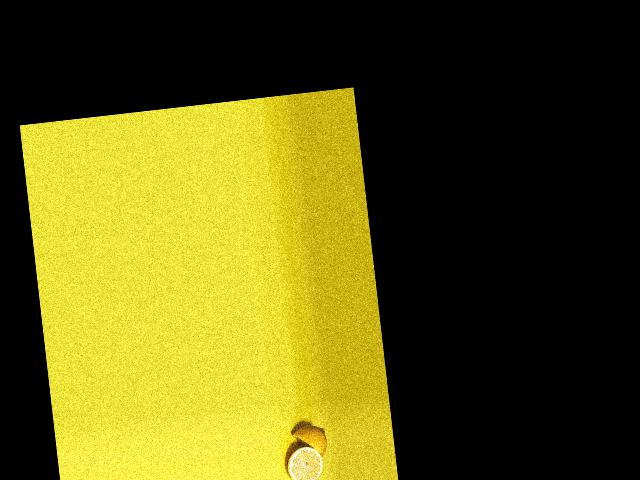lemon: (286, 421, 329, 461)
